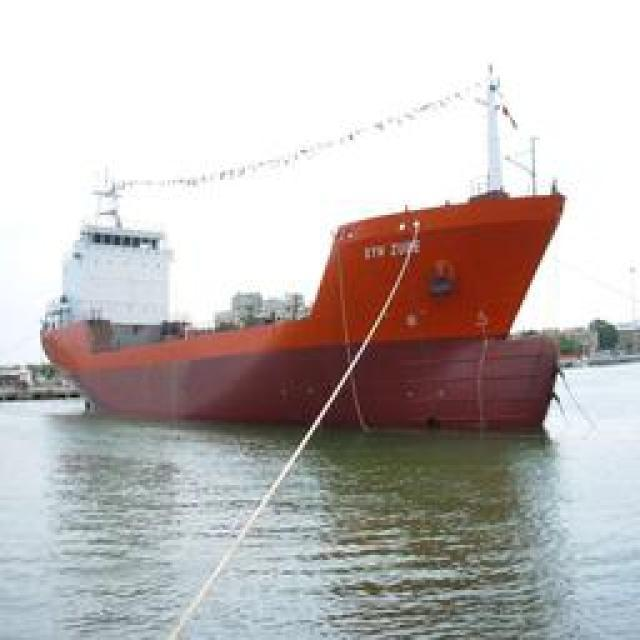Ship: (47, 170, 555, 435)
